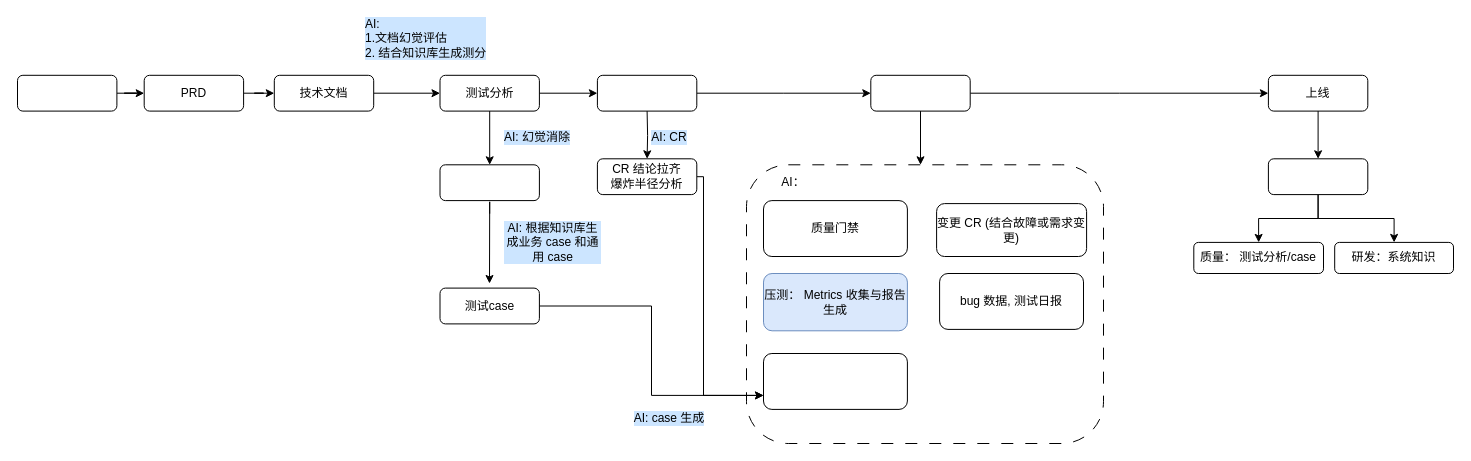
This 1471x461 diagram has some shape labels left out. The shapes that lost their labels are listed below. From the top down, each one's centre as x and y in pixels, then its label:
At point (66, 92): "BRD".
At point (646, 92): "提测".
At point (920, 92): "持续集成".
At point (489, 182): "测试分析 V2，V3，...".
At point (1317, 176): "知识库回填（质量领域， 技术领域）".
At point (834, 380): "链路级别自动化".
